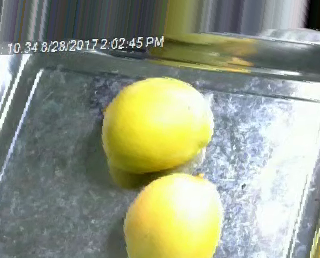Mango: (101, 76, 214, 171), (121, 173, 221, 256)
